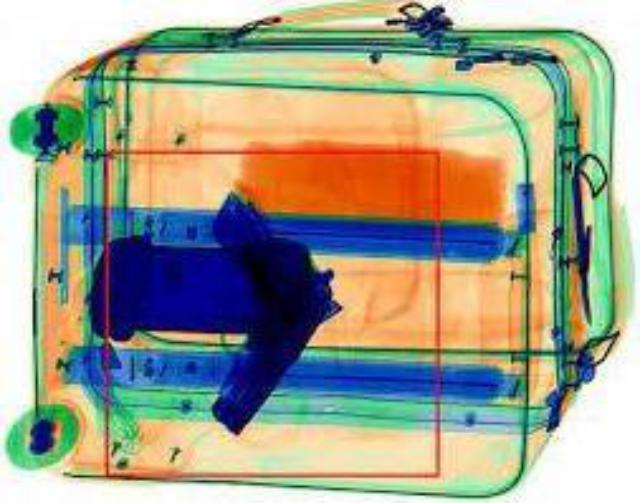Gun: (198, 186, 338, 435)
